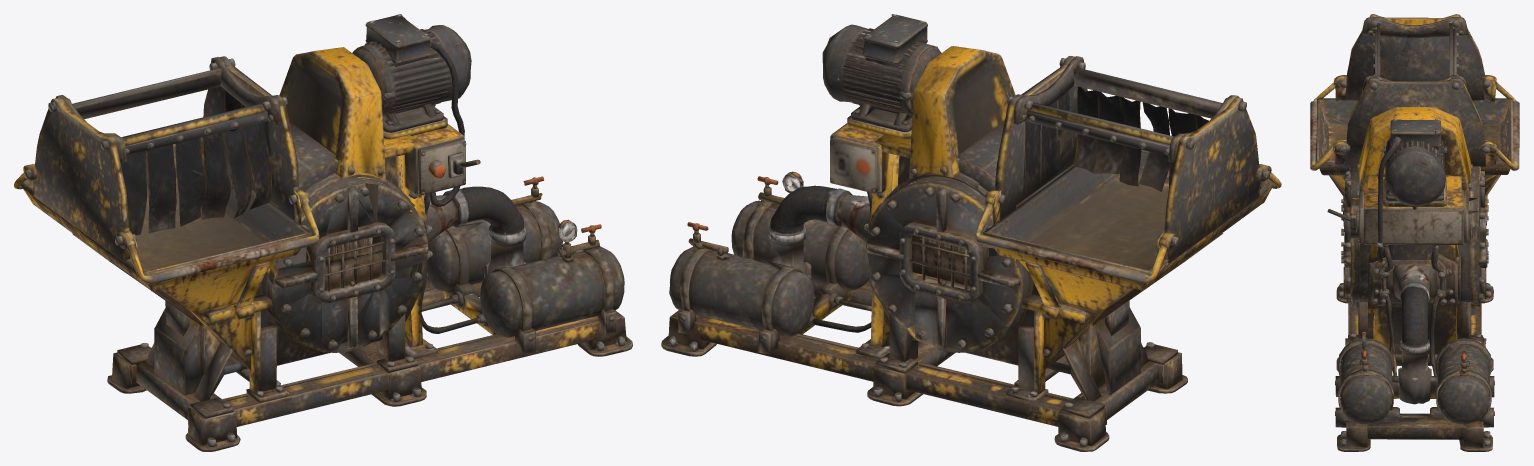
The model's file is train-chipper.glb.
3 renders of one model, left to right at view 1: azimuth 30°, elevation 25°; view 2: azimuth 150°, elevation 25°; view 3: azimuth 270°, elevation 25°, orthographic. The views are drawn at different scales.
Parts seen in each view (by area): view 1: train-chipper; view 2: train-chipper; view 3: train-chipper.
Part boxes in pixels (left/top/right/bottom): train-chipper: left=14, top=14, right=632, bottom=451; train-chipper: left=661, top=14, right=1281, bottom=451; train-chipper: left=1310, top=14, right=1519, bottom=451.
Size of the model in its own units: 1.36 by 0.832 by 0.6156.
1 material, 1 textured.
